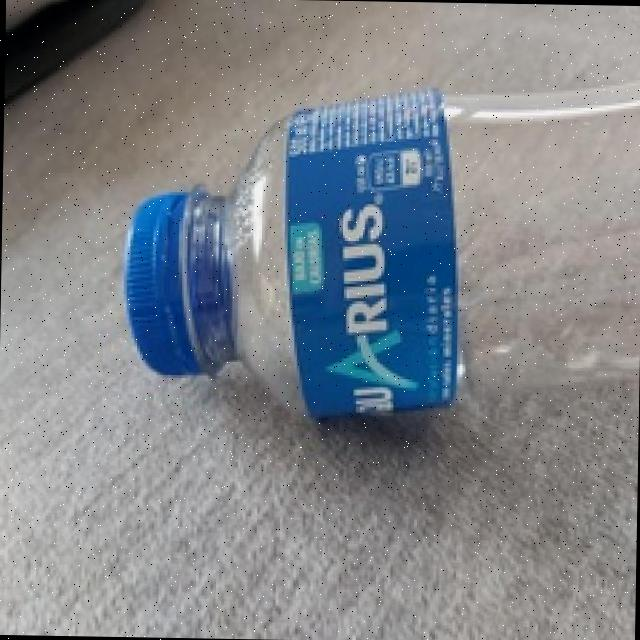bottle: (119, 107, 640, 421)
cap: (122, 188, 232, 382)
label: (279, 95, 465, 433)
